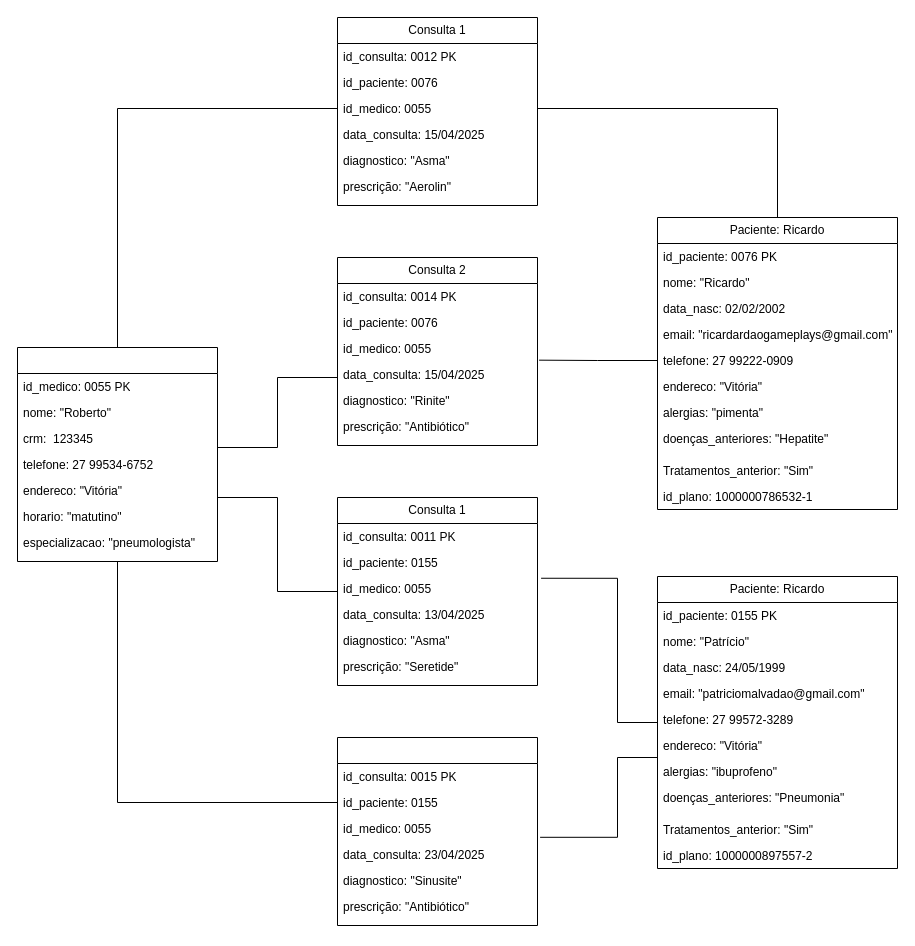
This 915x946 diagram has some shape labels left out. The shapes that lost their labels are listed below. From the top down, each one's box as (x1, y1, x2, y2) in pixels, then its label:
(16, 346, 218, 562): Médico: Roberto
(336, 736, 538, 926): Consulta 4
